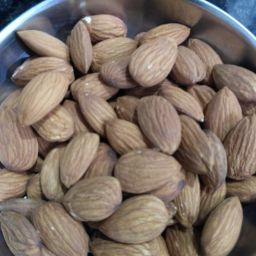Almonds: (68, 37, 256, 256), (54, 32, 239, 252), (4, 49, 252, 213), (11, 20, 255, 163), (2, 72, 164, 250), (74, 75, 208, 225)
